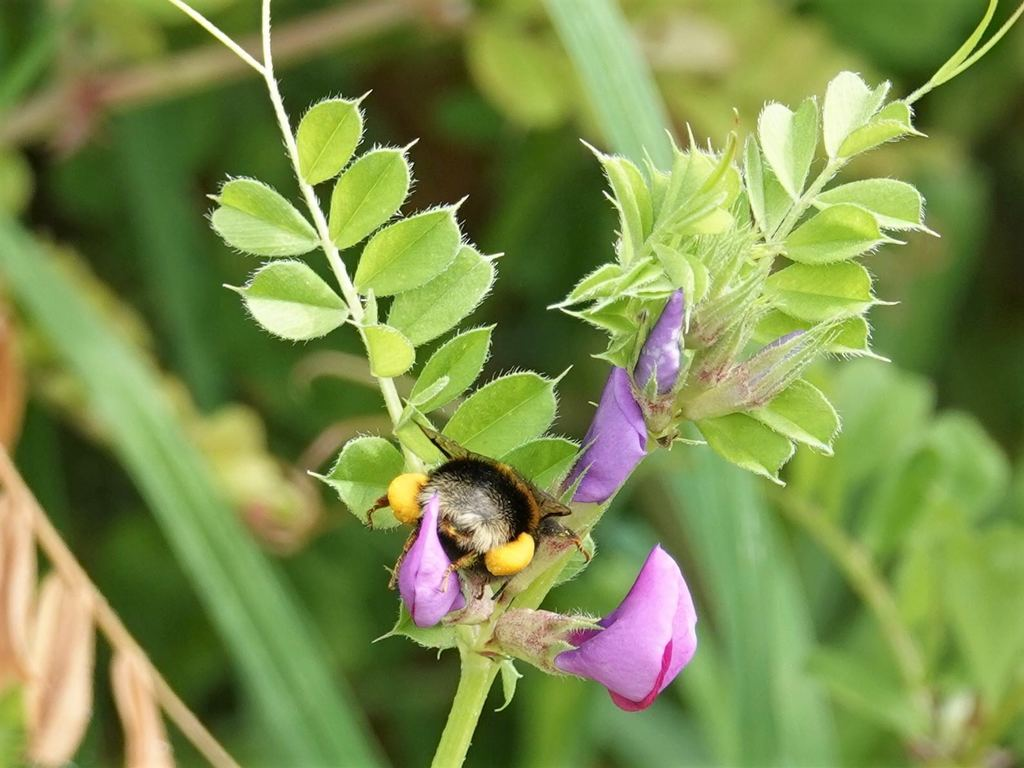bumblebee: (365, 417, 576, 599)
